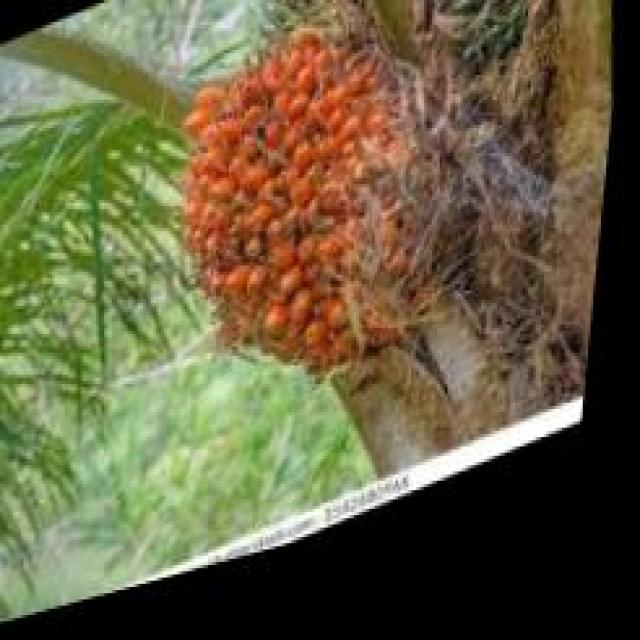Ripefruit: (165, 0, 470, 453)
